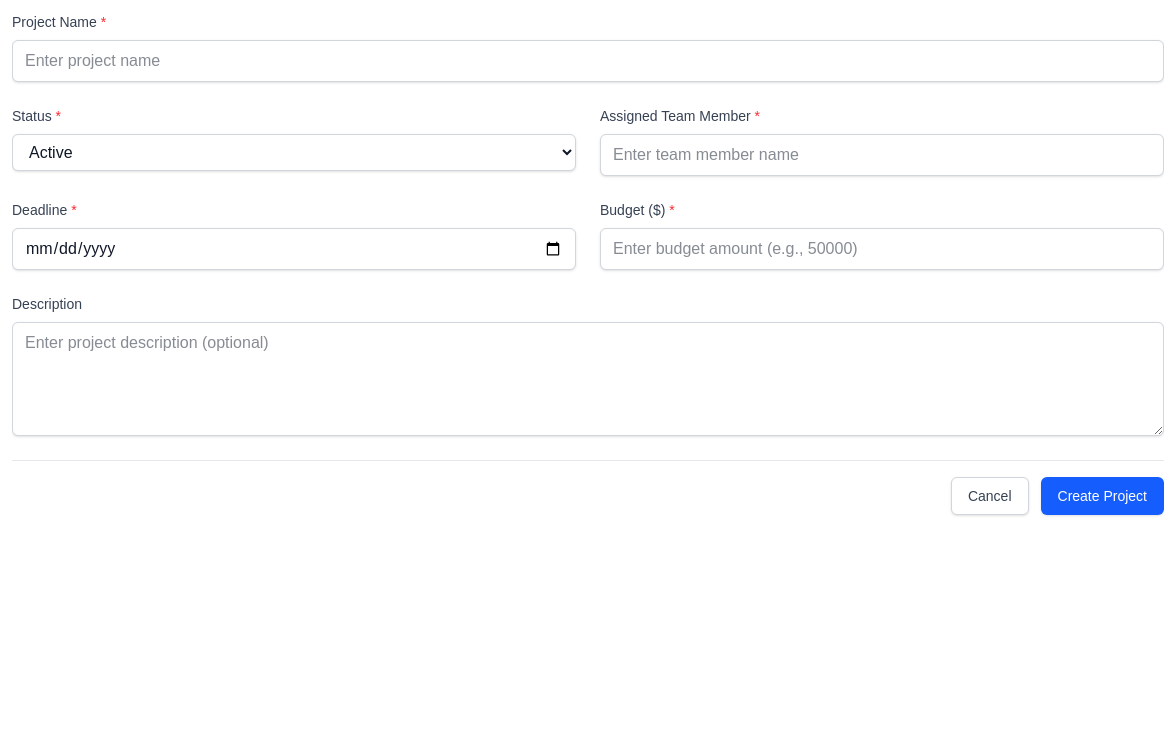
ProjectForm Component › should show validation errors for empty required fields
This screenshot has width=1176, height=732.
What coordinates should you click on to do the following:
click the button "Create Project"
I would click on:
 (1102, 496)
Its box is [1040,477,1164,515].
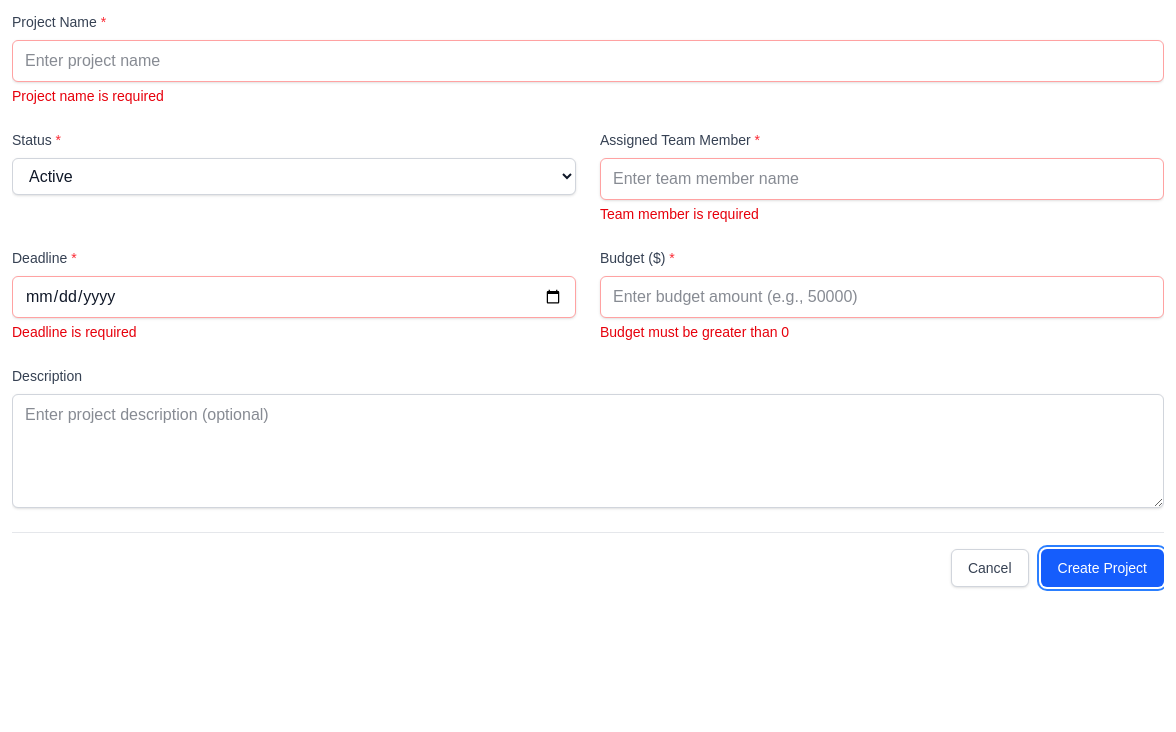
expect the text "Project name is required" is shown: met, box [12,88,164,104]
expect the text "Team member is required" is shown: met, box [600,206,759,222]
expect the text "Deadline is required" is shown: met, box [12,324,136,340]
